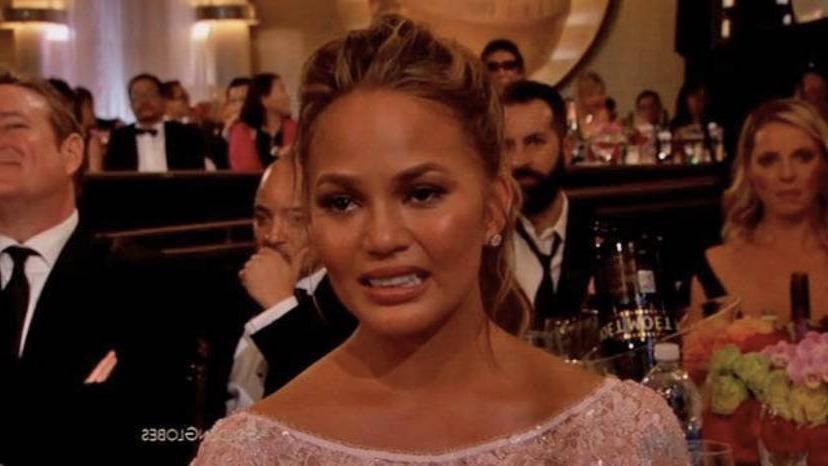Drunk: (313, 102, 474, 330)
